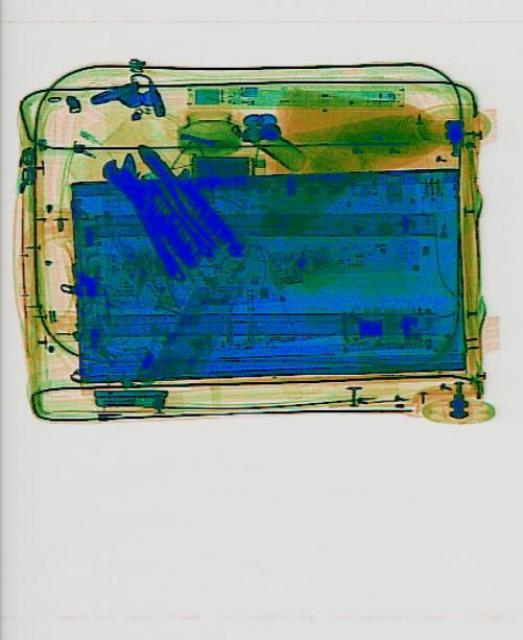Pliers: (129, 133, 231, 253)
Wrench: (95, 146, 190, 292)
